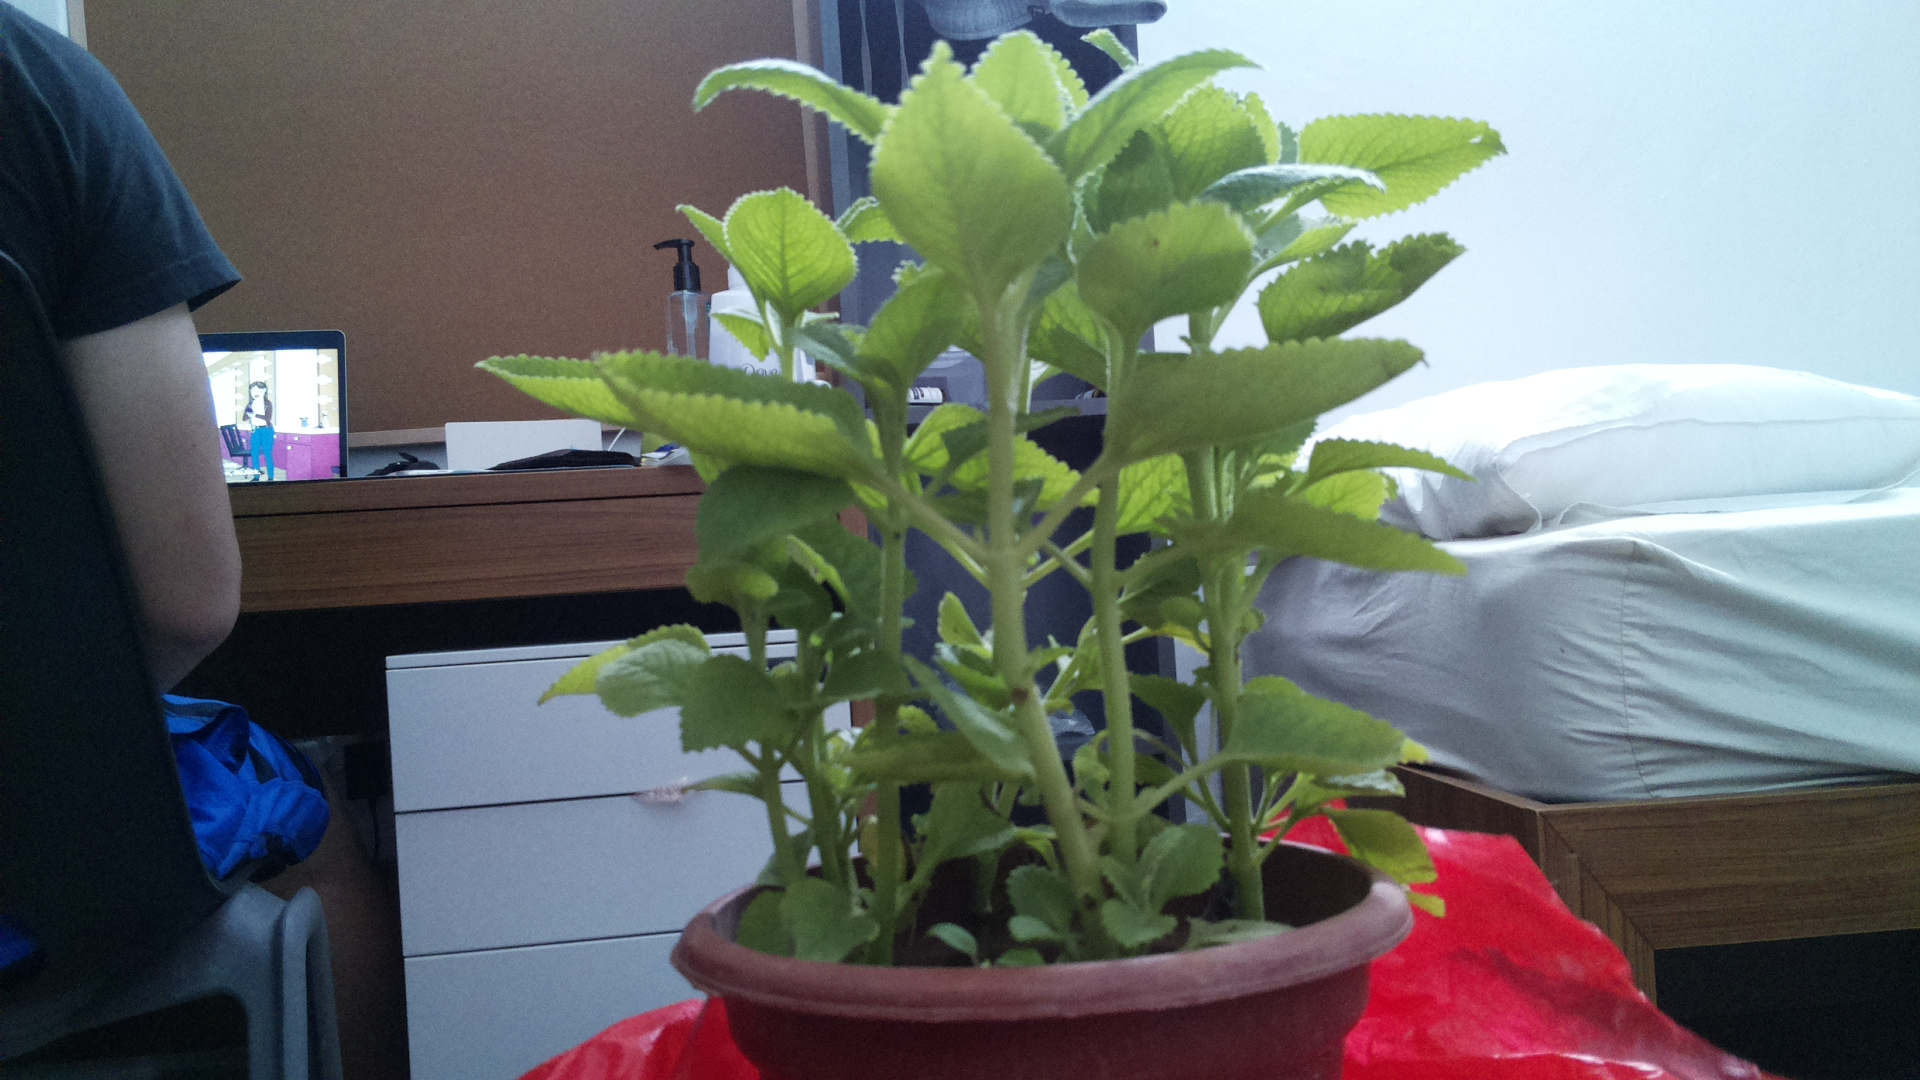leaf: (1097, 311, 1444, 479), (876, 45, 1084, 320), (1040, 38, 1276, 193), (605, 347, 861, 465), (1291, 102, 1528, 218), (1228, 487, 1472, 597), (1095, 186, 1271, 334), (680, 41, 893, 164), (1261, 231, 1473, 342), (680, 451, 860, 566), (719, 185, 857, 318), (676, 641, 823, 765), (1212, 695, 1441, 770)
